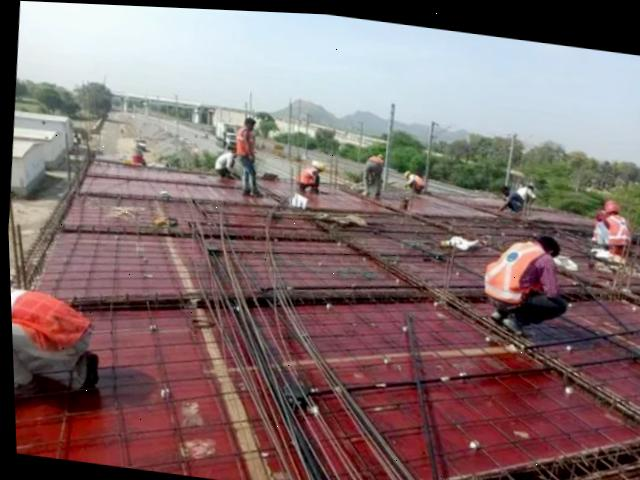helmet: (601, 194, 618, 209), (404, 167, 410, 173)
vest: (8, 276, 95, 354), (480, 228, 546, 311), (598, 207, 638, 243), (224, 119, 253, 161), (295, 161, 324, 187), (408, 173, 425, 185), (366, 153, 382, 161)
